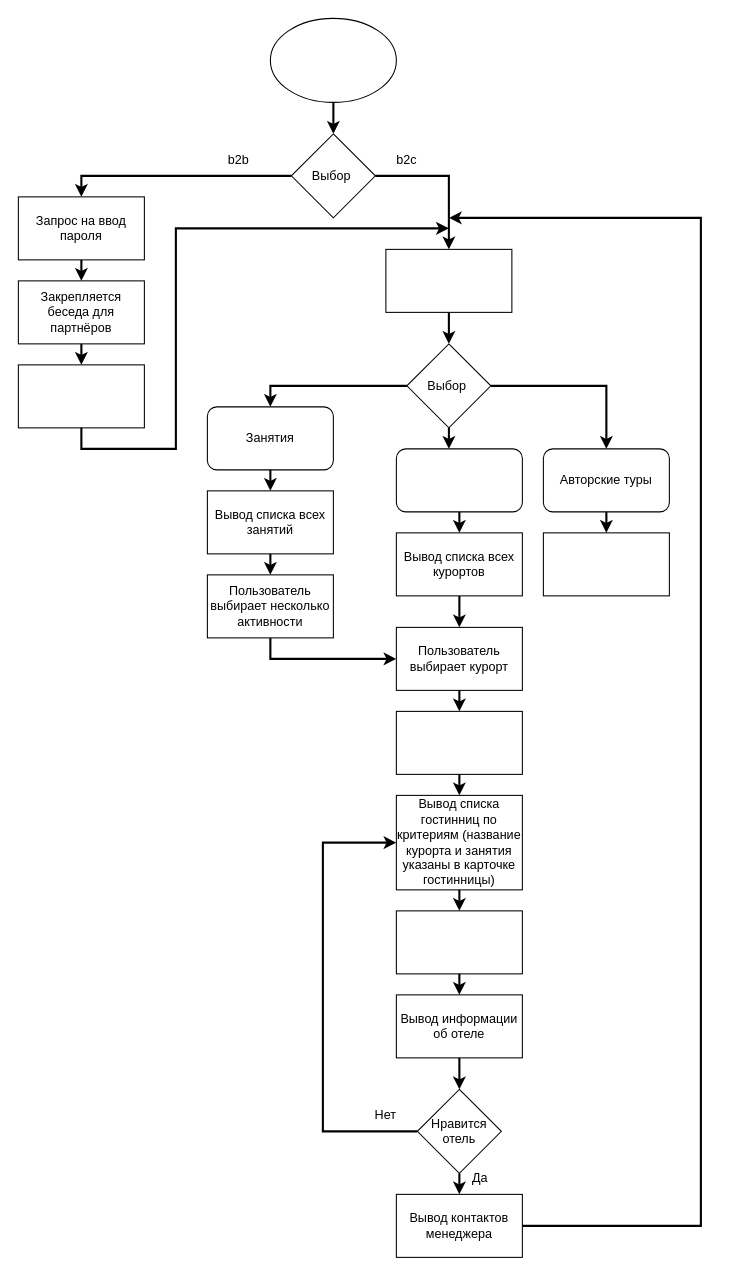
Image size: 729x1276. Some labels were removed from this diagram. The shapes that lost their labels are listed below. From the top down, each one's box as (x1, y1, x2, y2) in pixels, then its label:
(269, 17, 396, 102): Человек добавляет бота
(385, 248, 512, 312): Кипр (сообщение с общей информацией)
(17, 364, 144, 428): Вывод ссылки на систему бронирования
(395, 448, 522, 512): Курорты
(542, 532, 669, 596): Вывод списка карточек авторских туров
(395, 710, 522, 774): Выбор типа гостиницы
(395, 910, 522, 974): Пользователь выбирает отель
